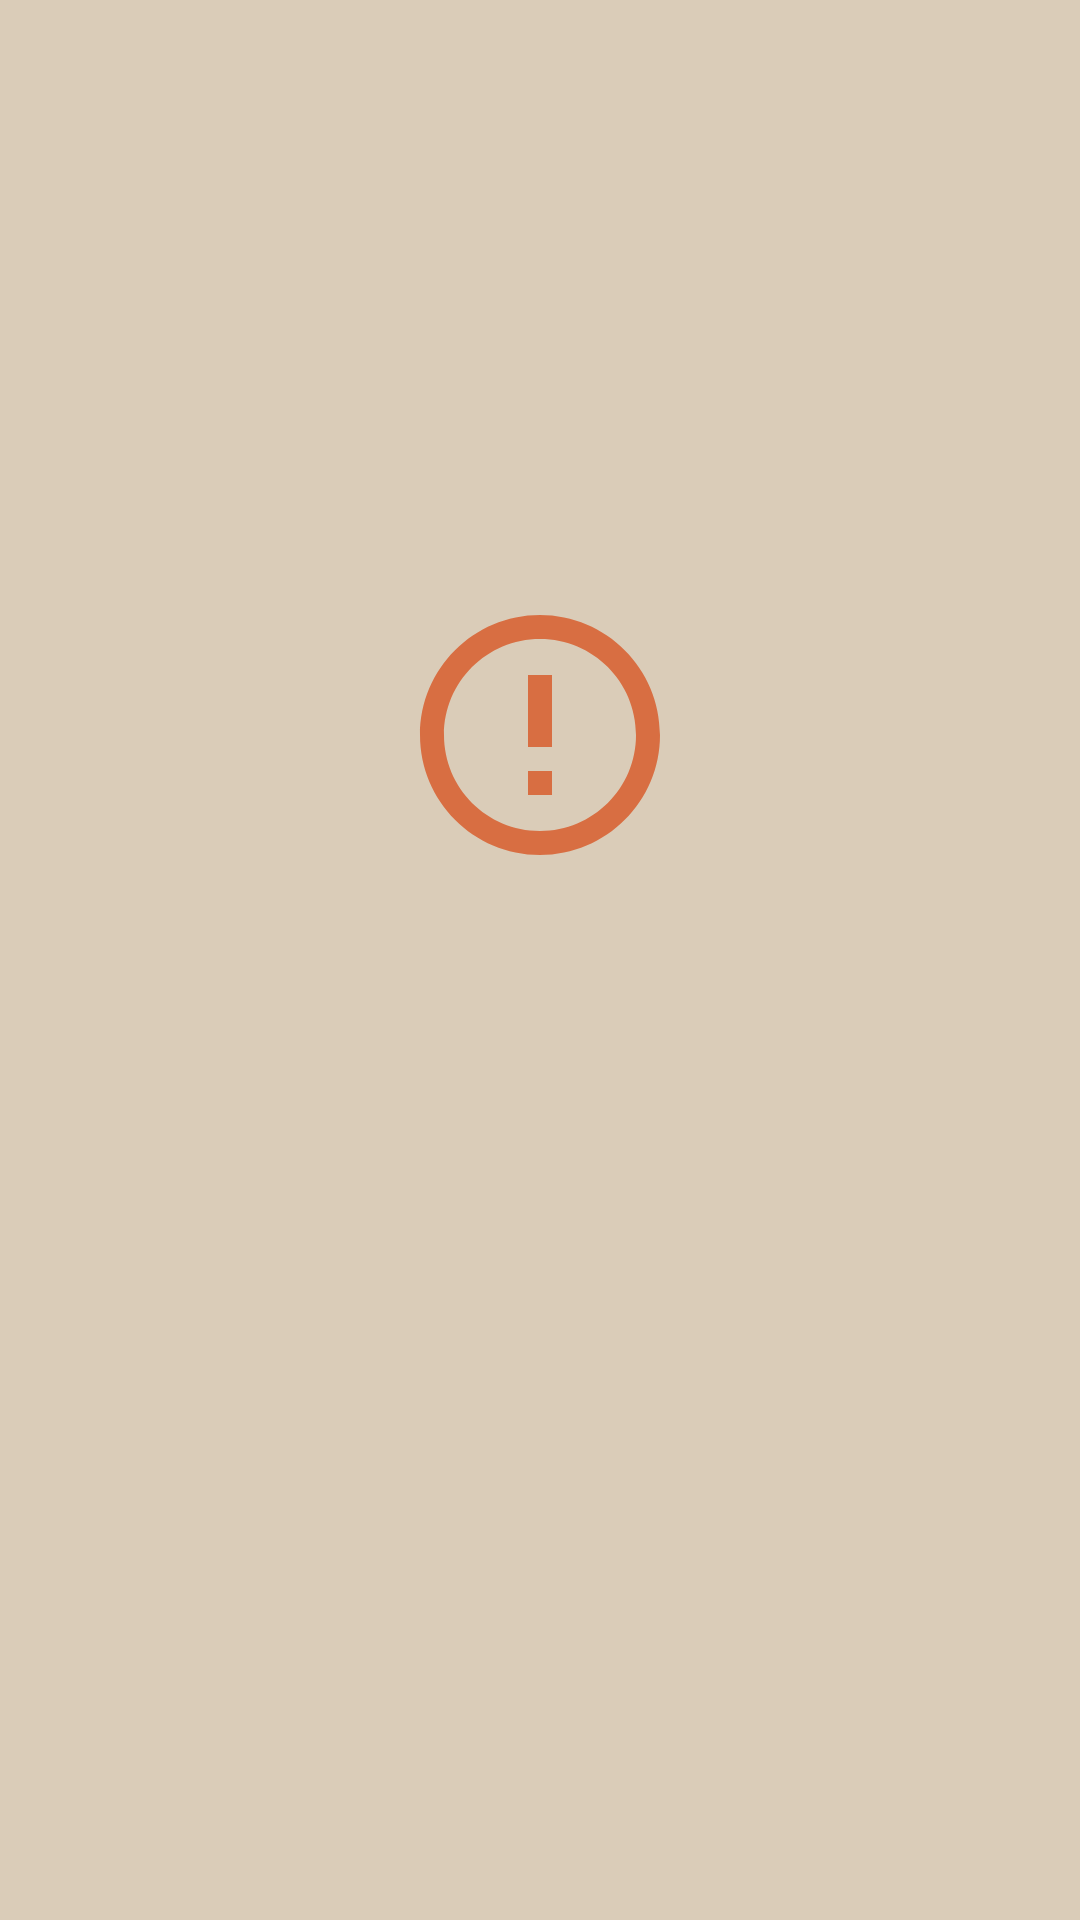

Named icons in this screenshot (1080 × 1920) and their bounding boxes, (x1, y1, x2, y2):
error: (420, 615, 660, 855)
